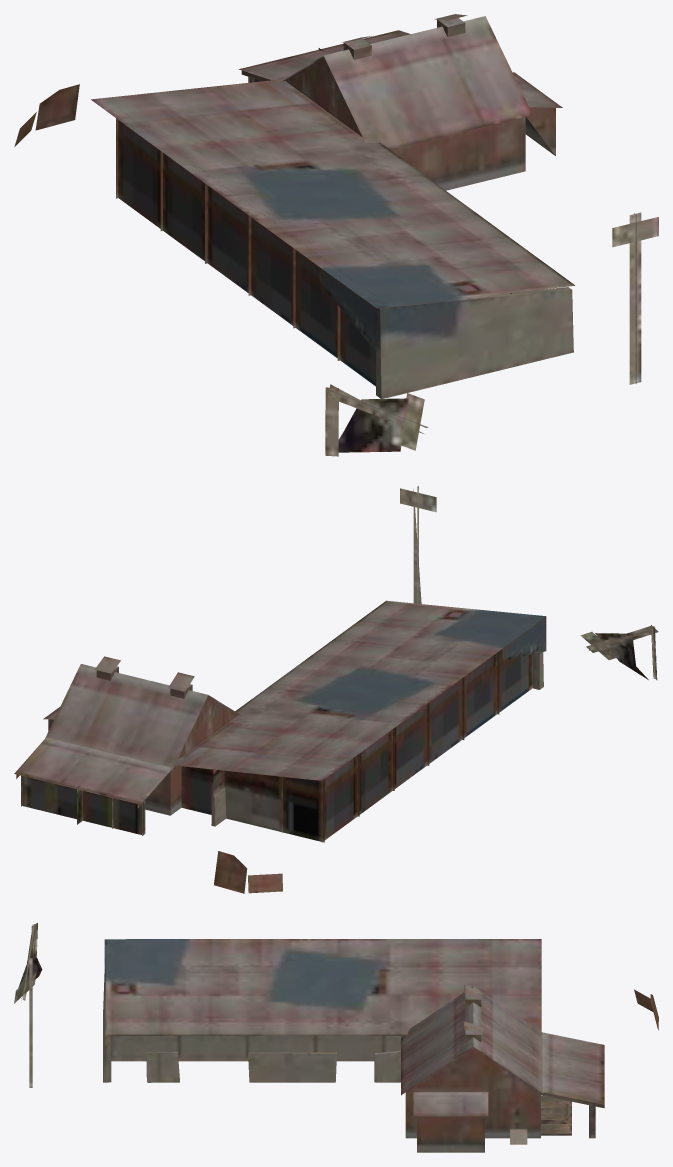
Rendered from stables_a.glb.
The picture shows the model from 3 angles, top to bottom: view 1: azimuth 30°, elevation 25°; view 2: azimuth 150°, elevation 25°; view 3: azimuth 270°, elevation 25°; orthographic projection. The views are drawn at different scales.
Parts seen in each view (by area): view 1: stables_a_hlod; view 2: stables_a_hlod; view 3: stables_a_hlod.
Boxes of the visible parts, x1=… form: stables_a_hlod: x1=14, y1=14, x2=658, y2=456; stables_a_hlod: x1=14, y1=486, x2=658, y2=893; stables_a_hlod: x1=14, y1=922, x2=658, y2=1152.
Size of the model in its own units: 37.93 by 12.92 by 57.12.
1 material, 1 textured.
